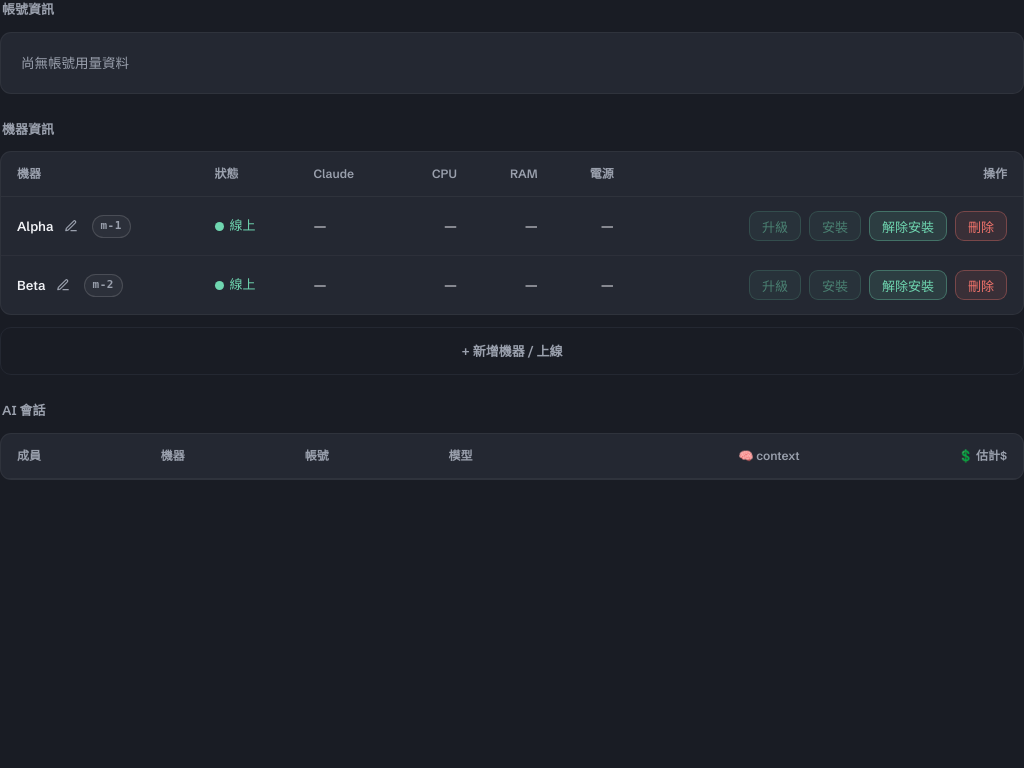
Test: MonitorPage uninstall members guard › cancel on the warning closes it without uninstalling
What coordinates should you click on to do the following:
click the button with test id "mon-uninstall-btn" in the row of "Alpha"
I would click on:
 (908, 226)
Its box is [869, 211, 947, 241].
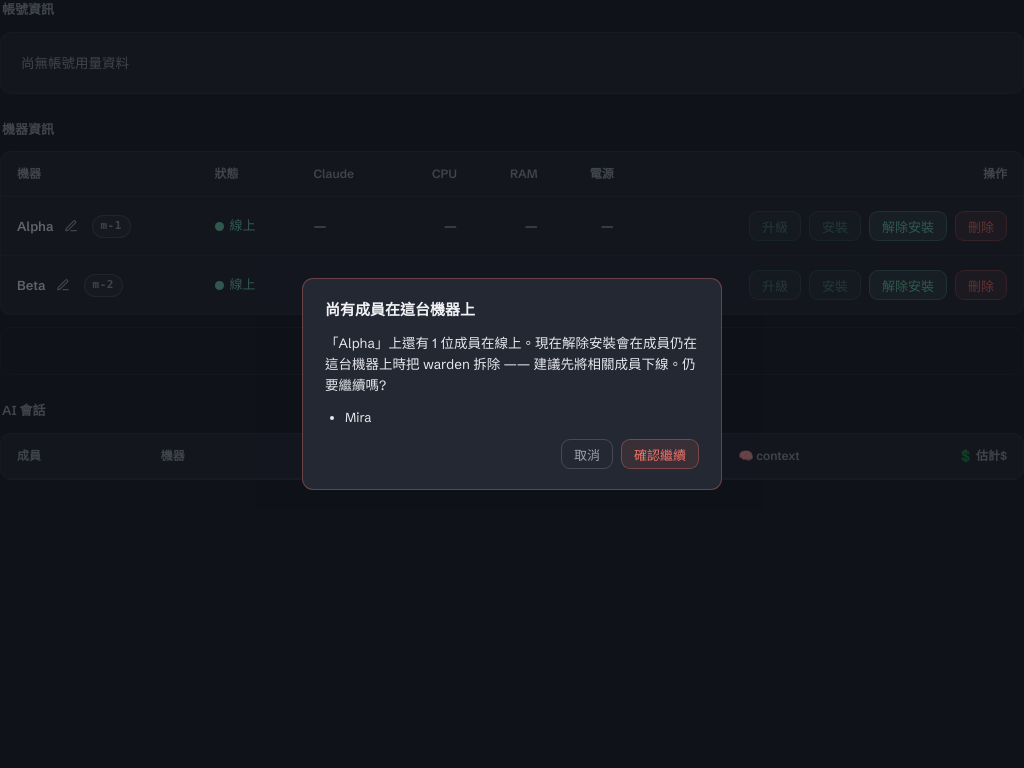
What coordinates should you click on to do the following:
click the button with class "btn--ghost"
I would click on:
 (587, 454)
Its box is [561, 439, 613, 469].
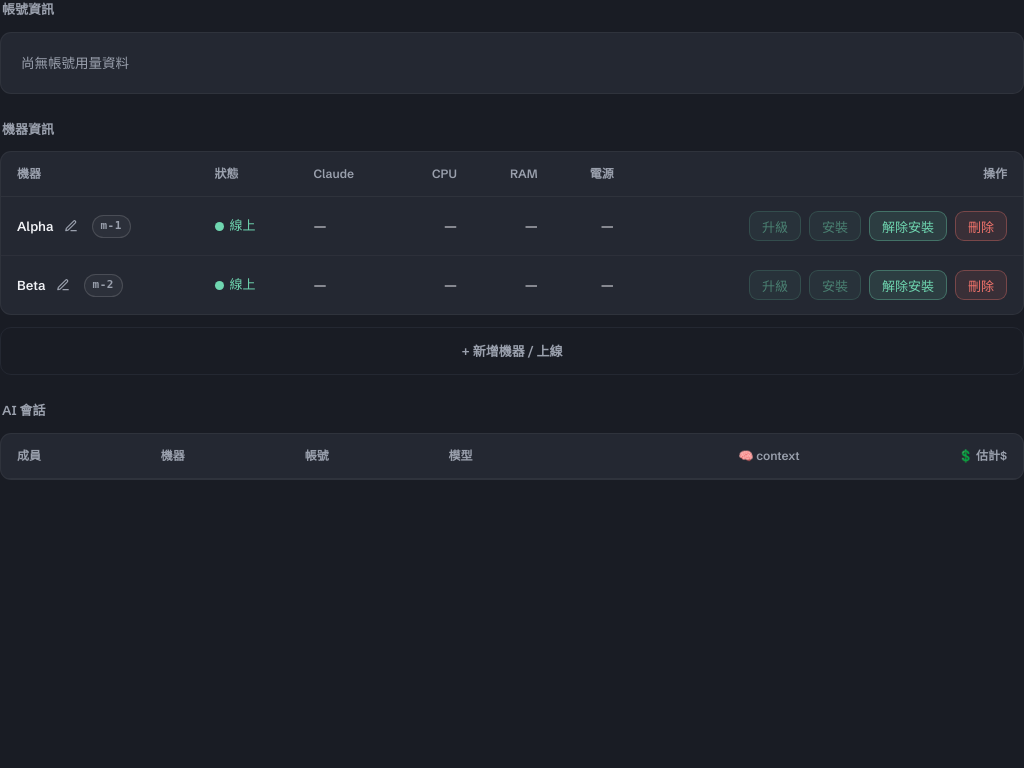
expect the dialog with test id "mon-uninstall-warn" is gone: met
